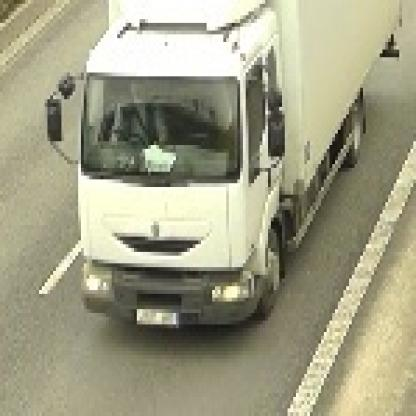truck: (46, 1, 400, 329)
